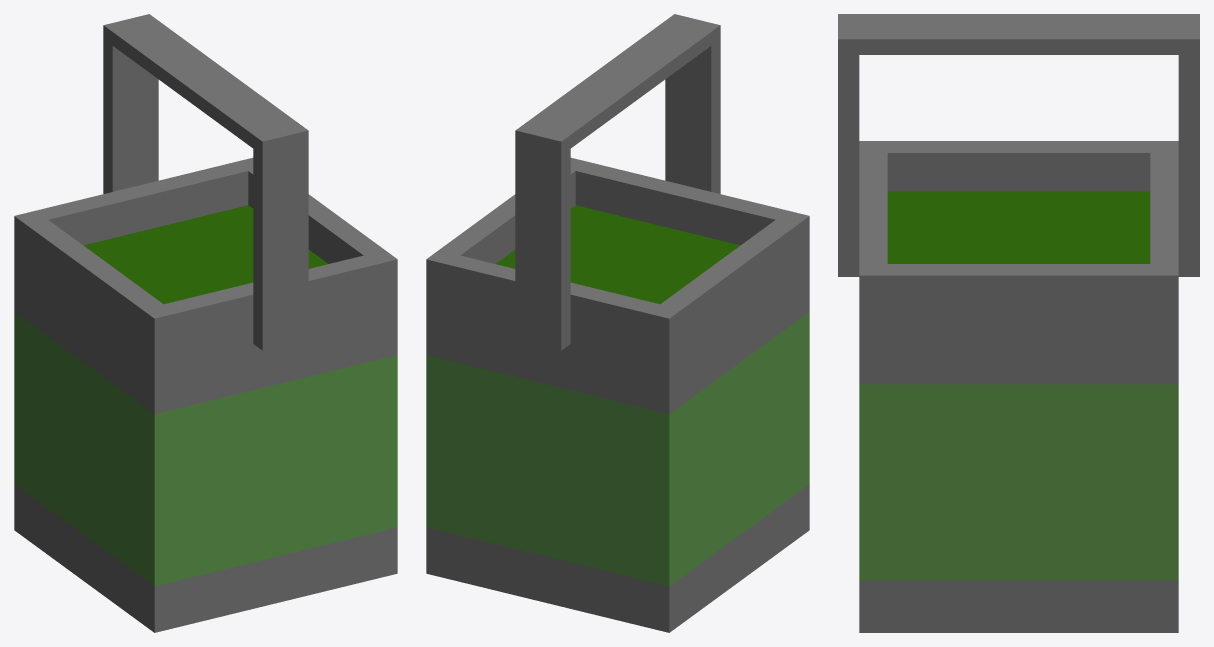
File: Paint Darker Green.gltf
3 renders of one model, left to right at view 1: azimuth 30°, elevation 25°; view 2: azimuth 150°, elevation 25°; view 3: azimuth 270°, elevation 25°, orthographic. The views are drawn at different scales.
Parts seen in each view (by area): view 1: Pain Can; view 2: Pain Can; view 3: Pain Can.
Part boxes in pixels (left/top/right/bottom): Pain Can: left=14, top=14, right=397, bottom=632; Pain Can: left=426, top=14, right=809, bottom=632; Pain Can: left=838, top=14, right=1199, bottom=632.
Size of the model in its own units: 2 by 3.73 by 2.27.
